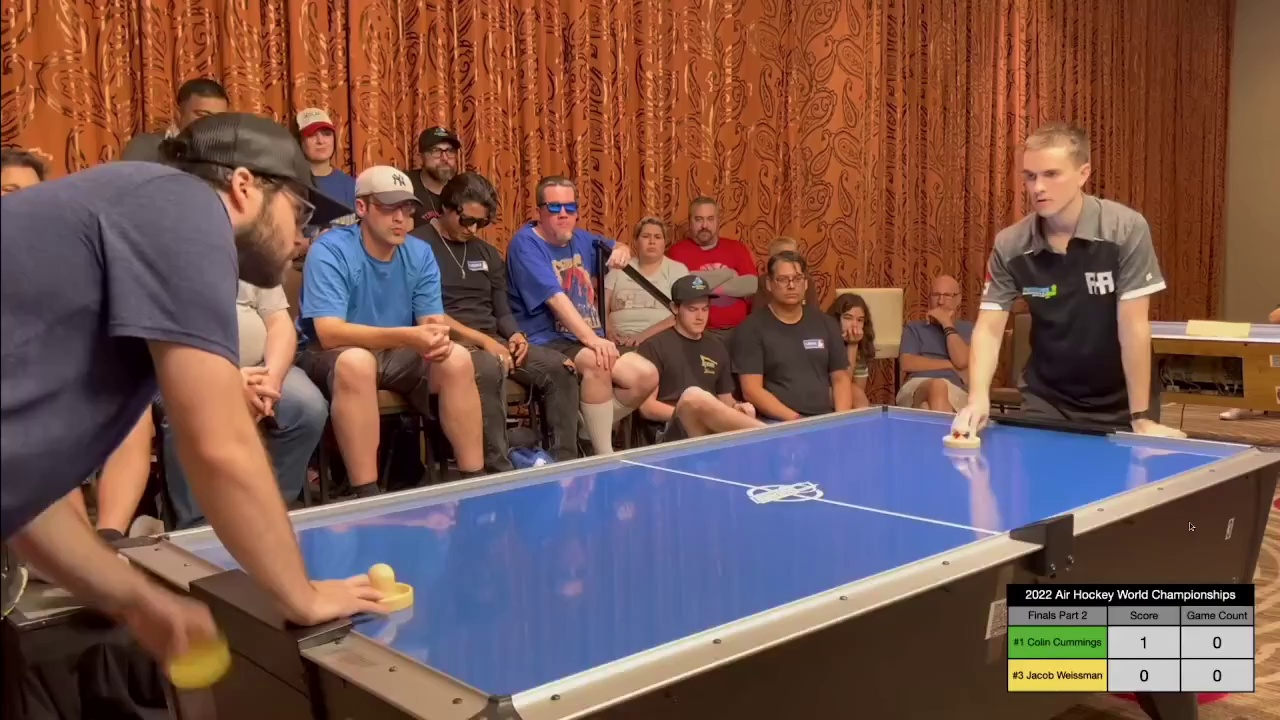player: (354, 561, 418, 612), (942, 420, 985, 454)
puck: (168, 636, 232, 689)
table: (92, 392, 1263, 681)
